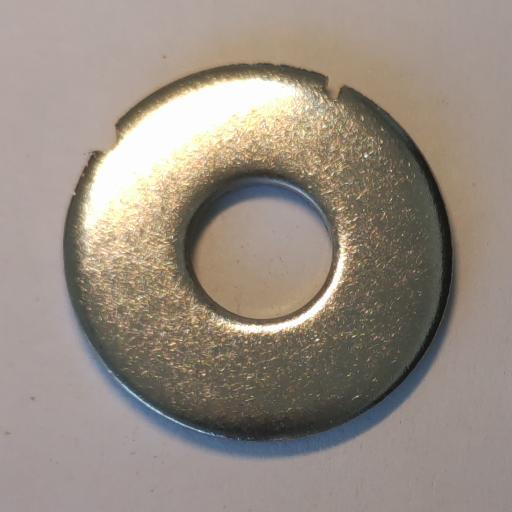burr: (93, 121, 122, 157), (323, 76, 344, 101)
